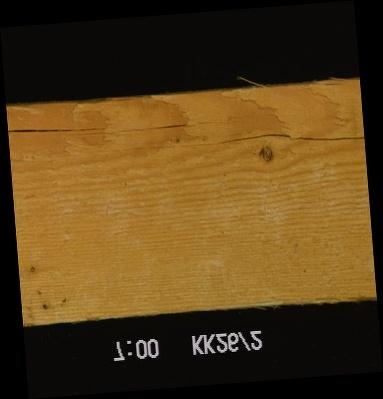small_knot: (26, 262, 36, 275)
sound_knot: (256, 145, 273, 164)
split: (8, 113, 246, 138), (98, 130, 363, 151)
